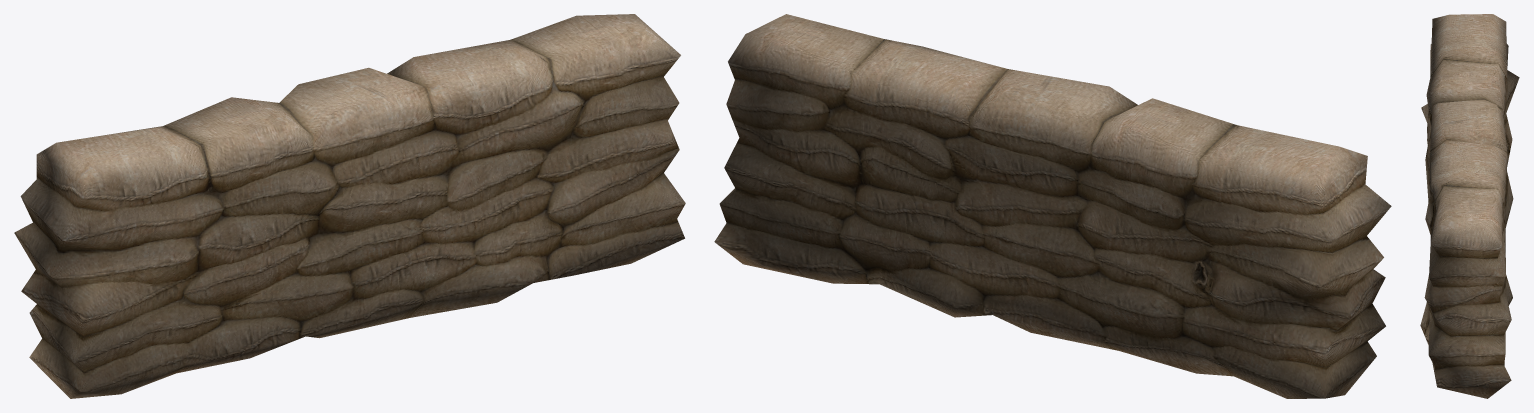
File: Sandbags_2_LOD1.fbx
The picture shows the model from 3 angles, left to right: view 1: azimuth 30°, elevation 25°; view 2: azimuth 150°, elevation 25°; view 3: azimuth 270°, elevation 25°; orthographic projection. The views are drawn at different scales.
Parts seen in each view (by area): view 1: polySurface227; view 2: polySurface227; view 3: polySurface227.
Boxes of the visible parts, x1=… form: polySurface227: x1=14, y1=14, x2=685, y2=398; polySurface227: x1=714, y1=14, x2=1391, y2=398; polySurface227: x1=1420, y1=14, x2=1519, y2=398.
Size of the model in its own units: 3.23 by 1.18 by 0.5924.
